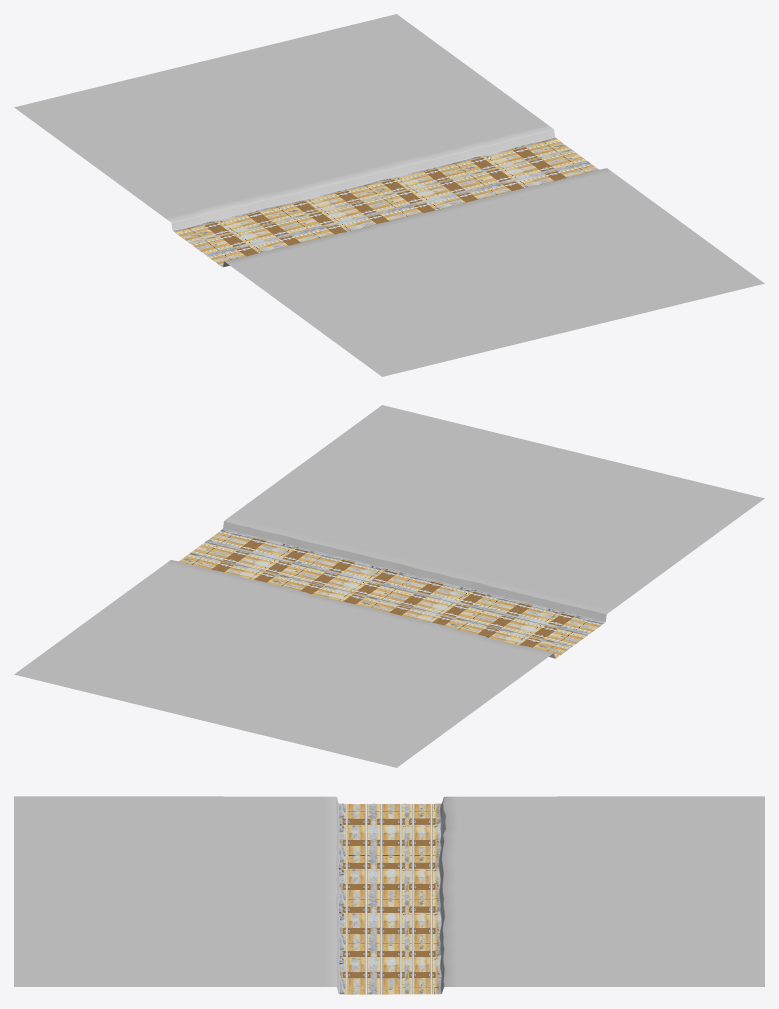
Rendered from ground.fbx.
The picture shows the model from 3 angles, top to bottom: view 1: azimuth 30°, elevation 25°; view 2: azimuth 150°, elevation 25°; view 3: azimuth 270°, elevation 25°; orthographic projection.
Visible parts, largest first — view 1: ground1, road; view 2: ground1, road; view 3: ground1, road.
Boxes of the visible parts, x1=… form: ground1: x1=14, y1=14, x2=764, y2=376; road: x1=173, y1=137, x2=598, y2=267; ground1: x1=14, y1=405, x2=764, y2=767; road: x1=179, y1=529, x2=604, y2=658; ground1: x1=14, y1=796, x2=764, y2=993; road: x1=338, y1=803, x2=441, y2=994.
Bounding box in the file's own units: 30 × 0.5566 × 50.
